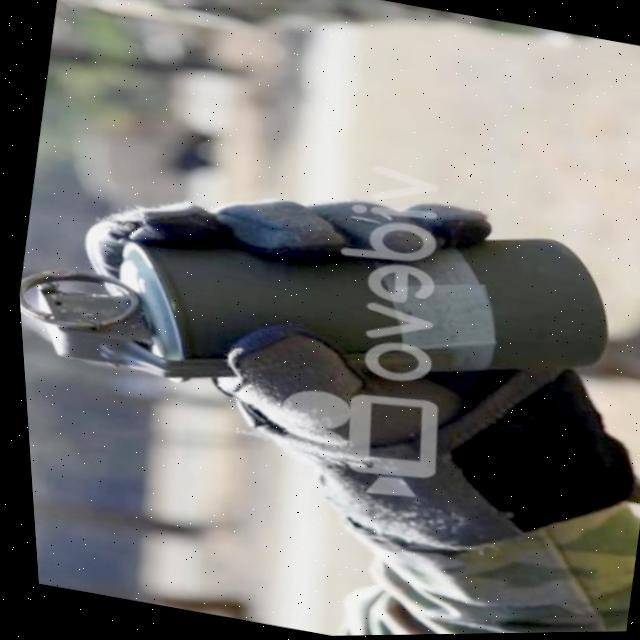grenade: (7, 129, 638, 476)
